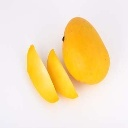mango: (62, 15, 111, 83)
